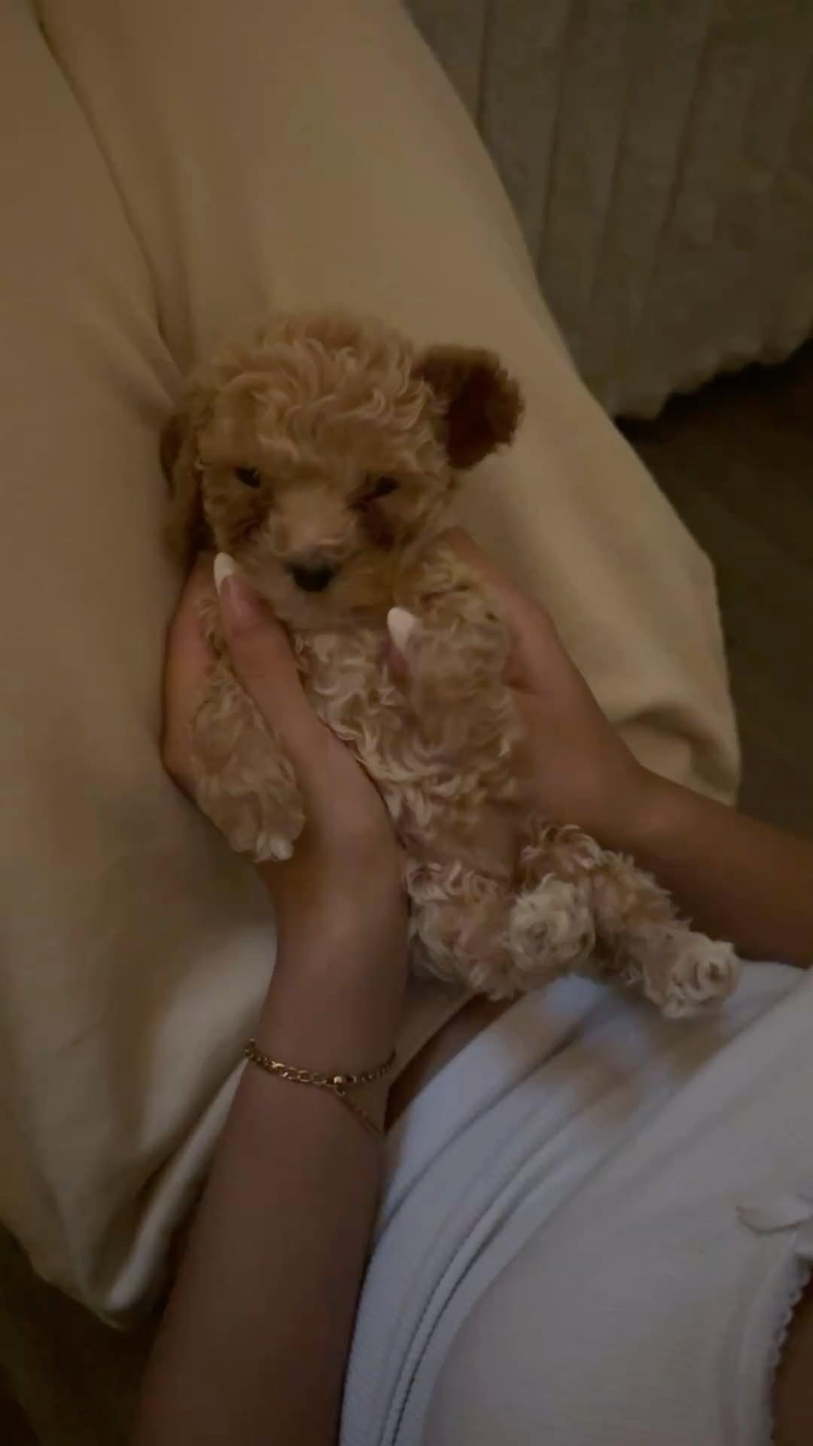puppy-dog: (154, 311, 745, 1022)
